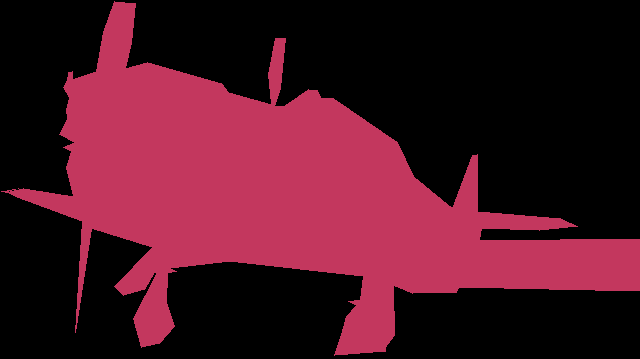Airplane: (1, 1, 640, 355)
